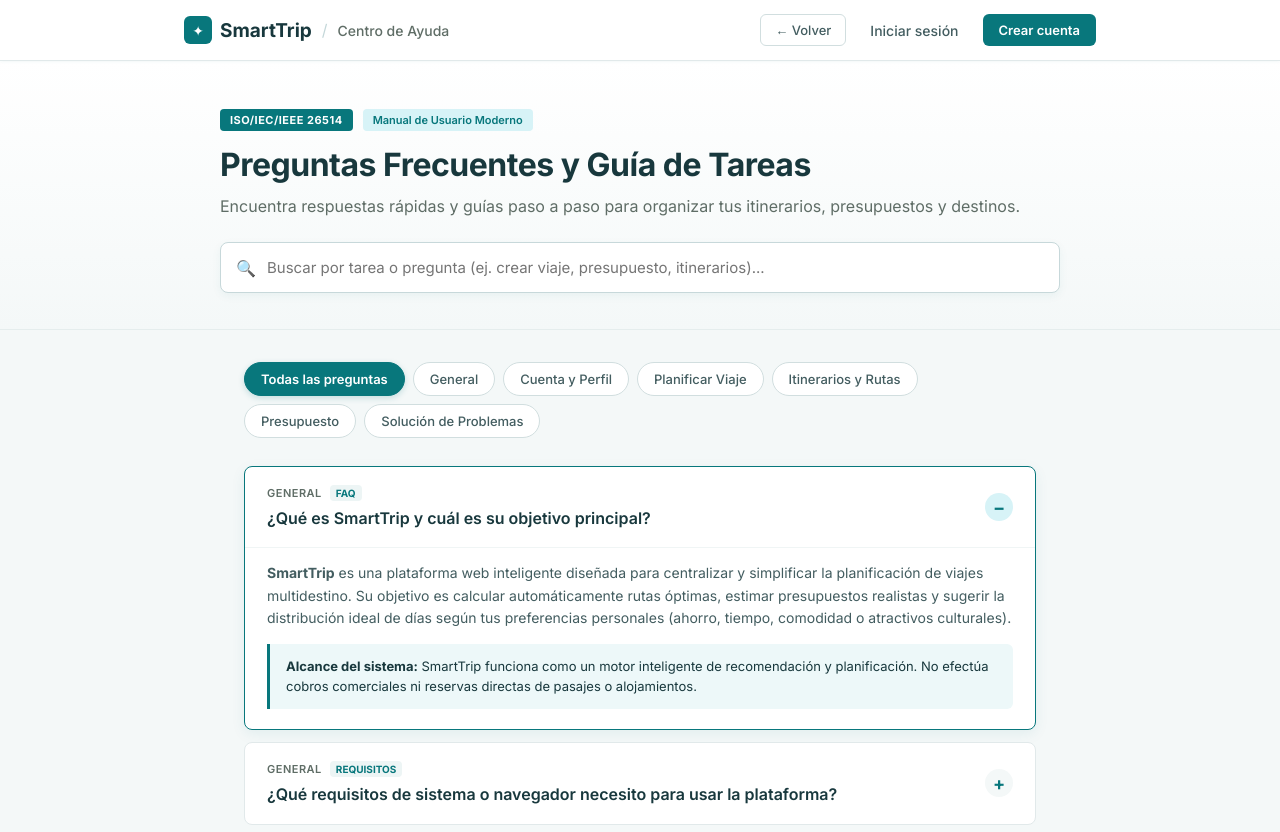
it: Faq Component (Centro de Ayuda - ISO/IEC/IEEE 26514) › muestra mensaje de estado vacío si la búsqueda no arroja resultados
Replace the text in the field with placeholder "Buscar por tarea o pregunta" with "terminoque_no_existe_xyz" at (640, 268), box x1=220 y1=242 x2=1060 y2=293
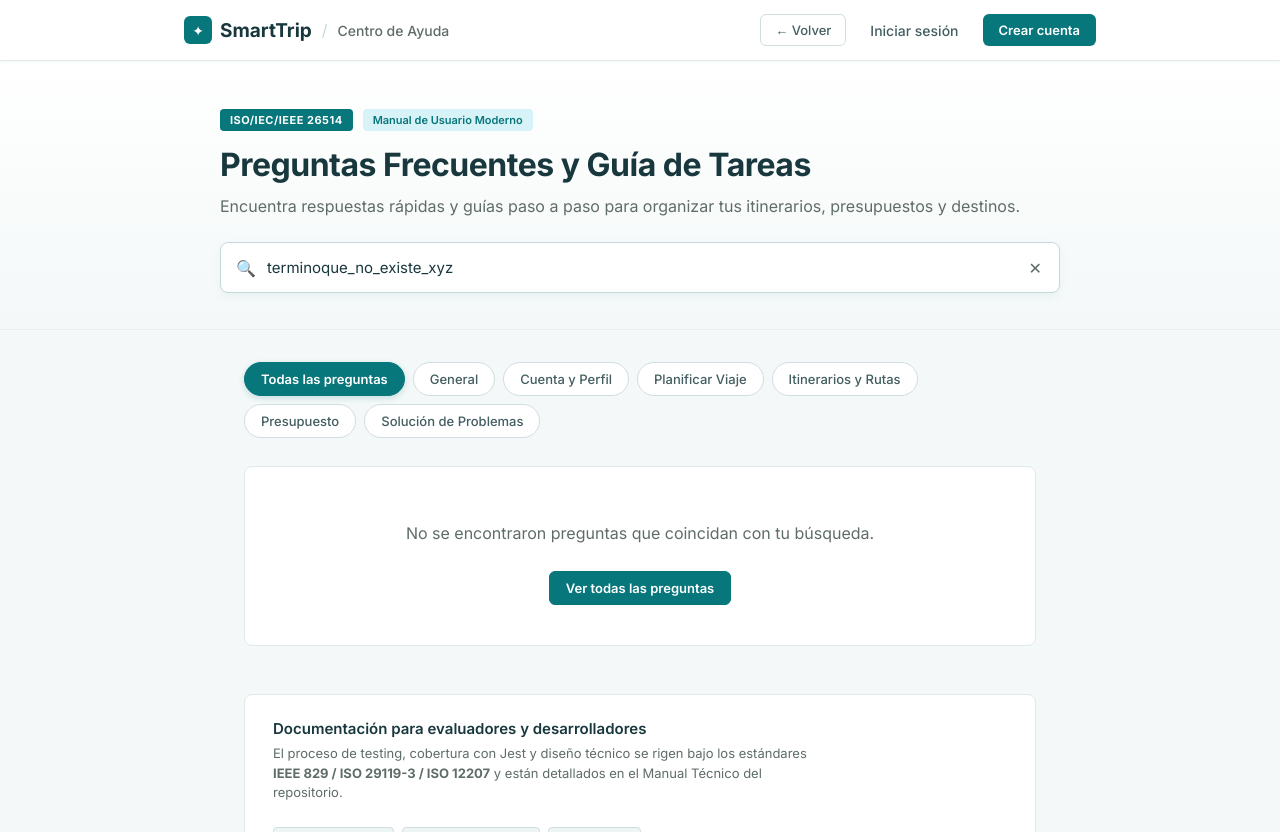
Expected: the text "No se encontraron preguntas que coincidan con tu búsqueda." is shown, x1=406 y1=523 x2=874 y2=543
